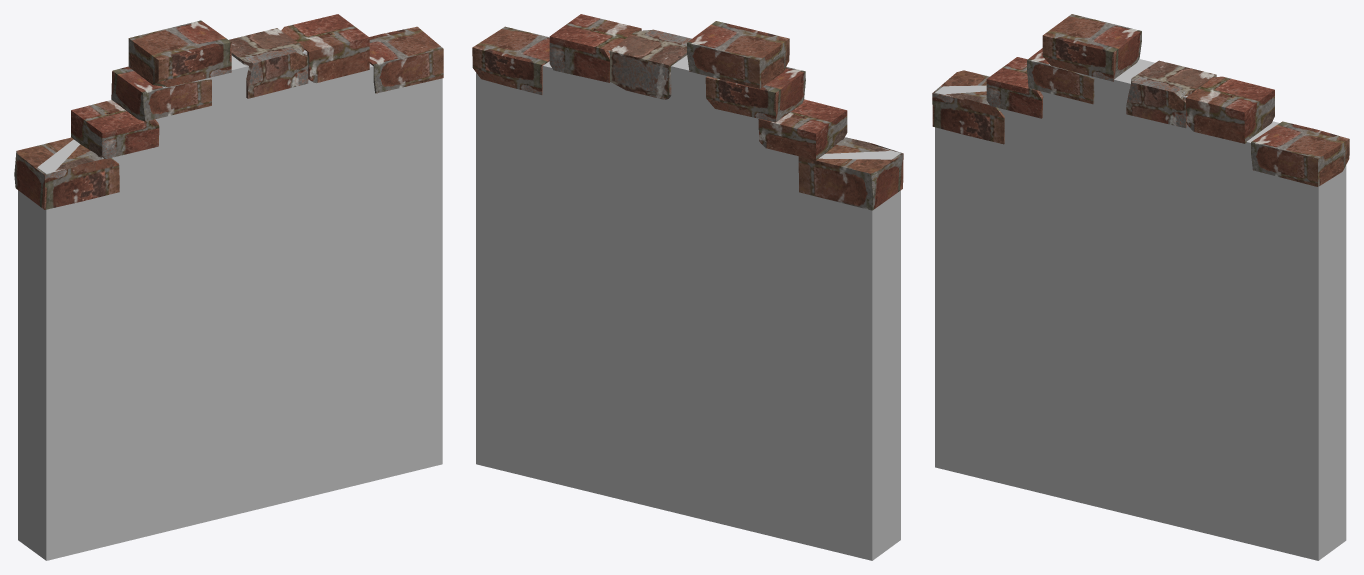
File: SM_Wall_Ruined_20.fbx
3 renders of one model, left to right at view 1: azimuth 30°, elevation 25°; view 2: azimuth 150°, elevation 25°; view 3: azimuth 330°, elevation 25°, orthographic. The views are drawn at different scales.
Visible parts, largest first — view 1: SM_Wall_Ruined_20_LOD0; view 2: SM_Wall_Ruined_20_LOD0; view 3: SM_Wall_Ruined_20_LOD0.
Boxes of the visible parts, left/top/right/bottom form: SM_Wall_Ruined_20_LOD0: left=14, top=14, right=443, bottom=560; SM_Wall_Ruined_20_LOD0: left=472, top=14, right=903, bottom=560; SM_Wall_Ruined_20_LOD0: left=932, top=14, right=1349, bottom=560.
Size of what is drawn, in the model's own units: 407 by 457 by 56.73.
